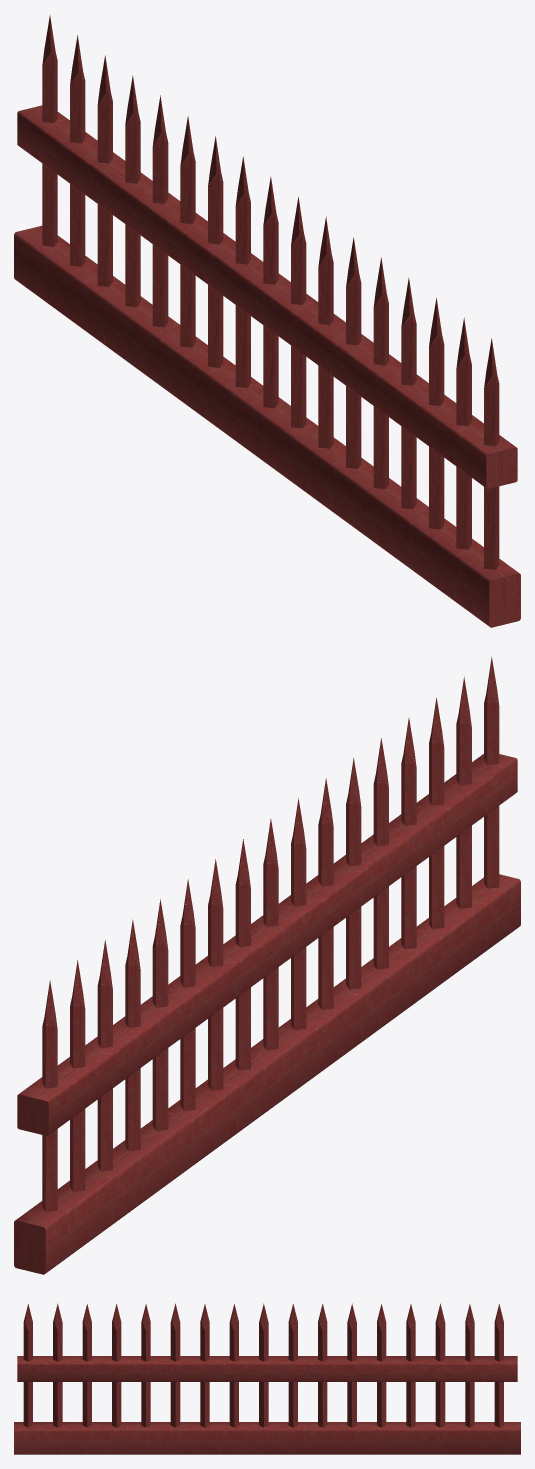
Rendered from SM_D_Gatejail_1.fbx.
The picture shows the model from 3 angles, top to bottom: view 1: azimuth 30°, elevation 25°; view 2: azimuth 150°, elevation 25°; view 3: azimuth 270°, elevation 25°; orthographic projection. The views are drawn at different scales.
Visible parts, largest first — view 1: SM_D_Gatejail_1; view 2: SM_D_Gatejail_1; view 3: SM_D_Gatejail_1.
Part boxes in pixels (x1=…): SM_D_Gatejail_1: x1=14, y1=15, x2=520, y2=627; SM_D_Gatejail_1: x1=14, y1=656, x2=520, y2=1274; SM_D_Gatejail_1: x1=14, y1=1303, x2=520, y2=1454.
Size of the model in its own units: 9.63 by 252 by 80.88.
Materials: 1 (1 with a texture image).
